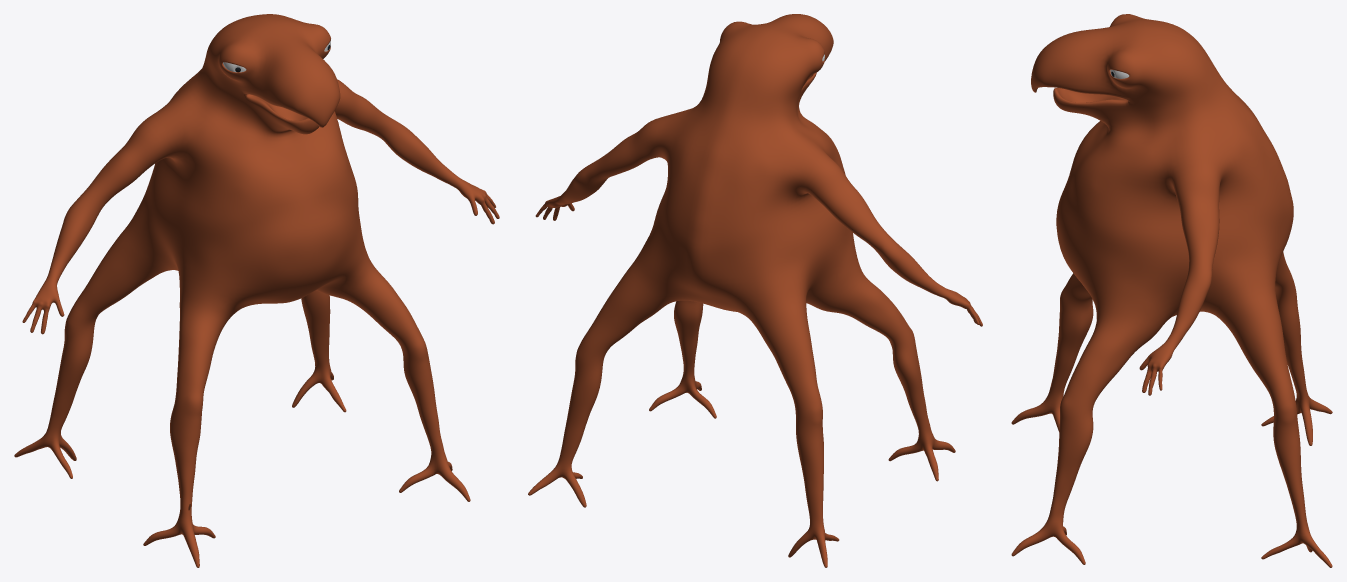
The model's file is berg.glb.
3 views of the same model, side by side, from view 1: azimuth 30°, elevation 25°; view 2: azimuth 150°, elevation 25°; view 3: azimuth 270°, elevation 25° (orthographic). The views are drawn at different scales.
Visible parts, largest first — view 1: Chair; view 2: Chair; view 3: Chair.
Boxes of the visible parts, <box> form: Chair: <box>14,14,499,567</box>; Chair: <box>528,14,982,567</box>; Chair: <box>1011,14,1332,567</box>.
Size of the model in its own units: 1.88 by 1.8 by 1.11.
